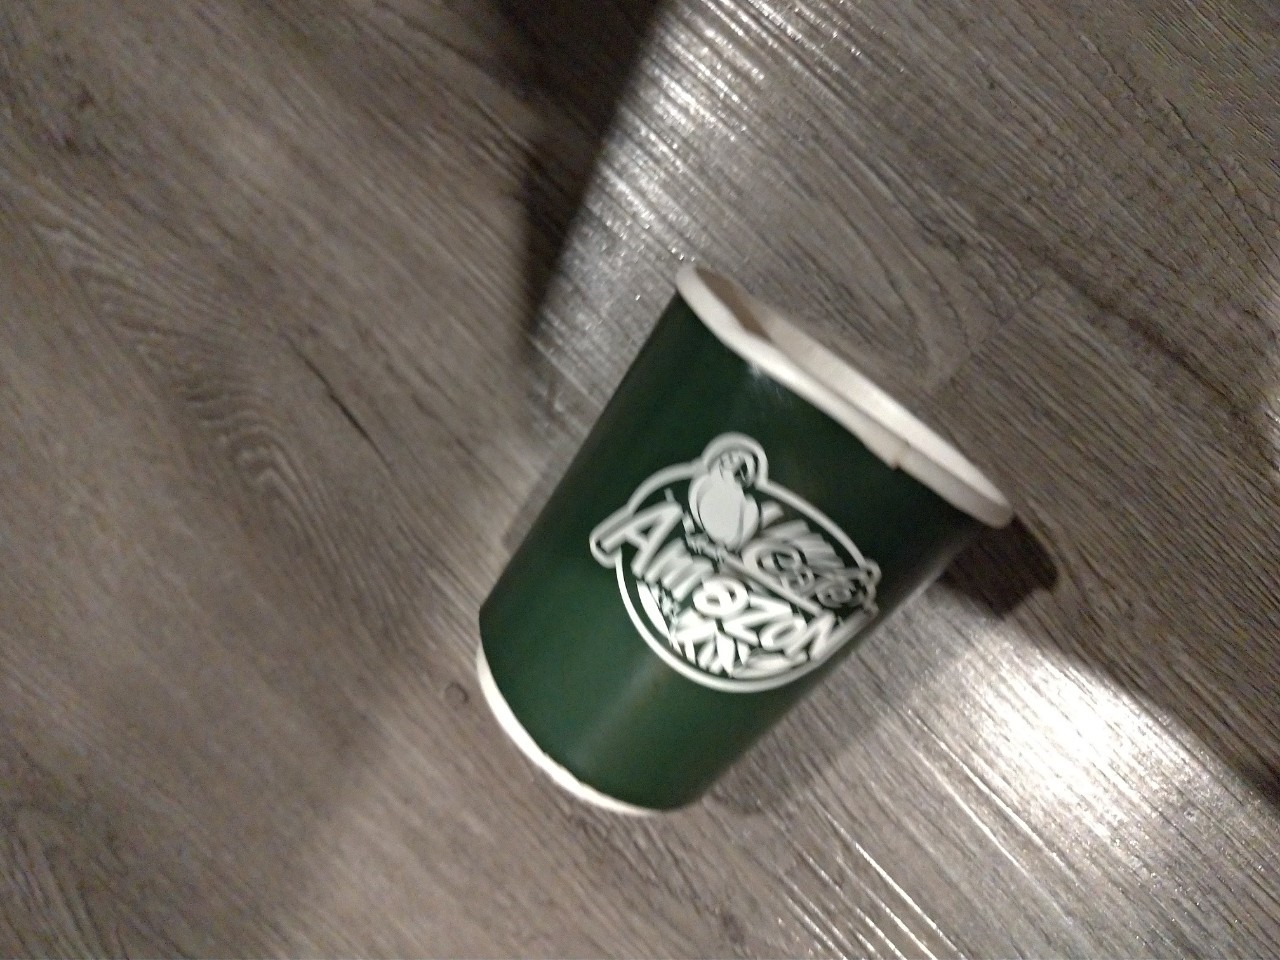PaperCup: (464, 258, 1015, 824)
